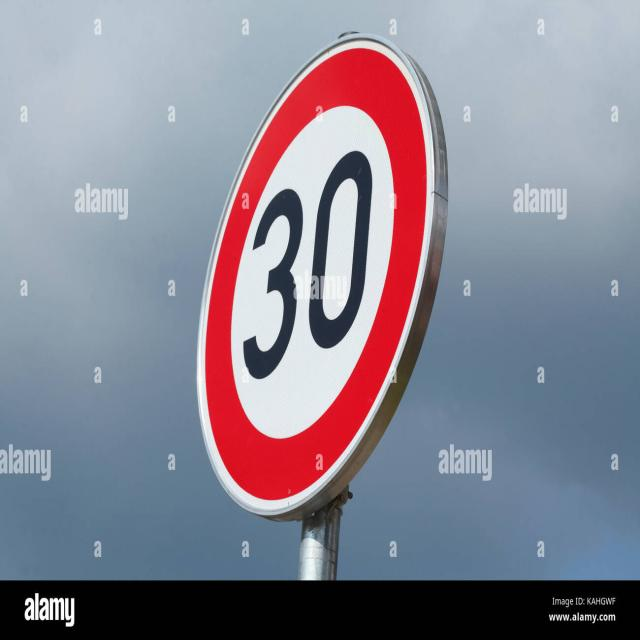speed_30: (198, 38, 445, 509)
